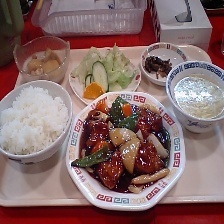sabzi: (141, 51, 175, 80)
